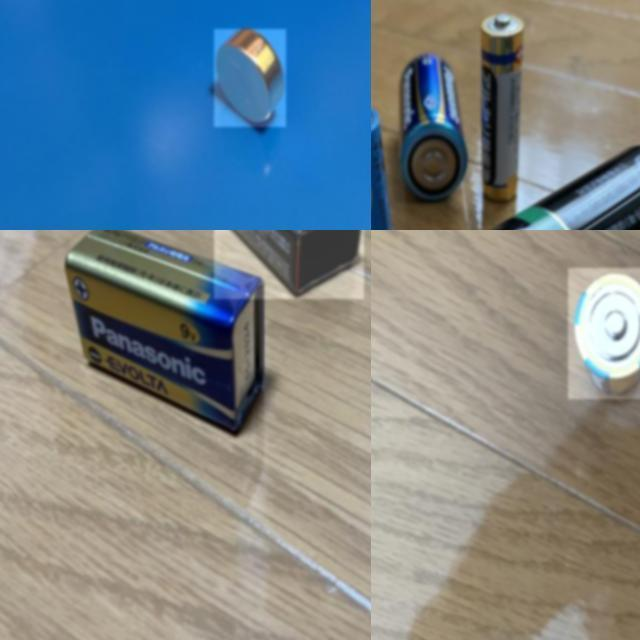9V: (64, 230, 265, 435), (214, 230, 364, 298)
